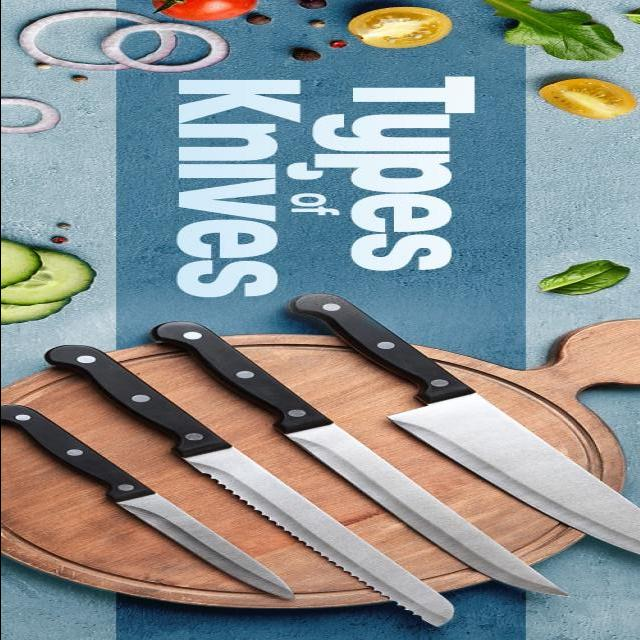knife: (10, 348, 464, 630), (153, 312, 573, 606), (286, 291, 640, 583)
